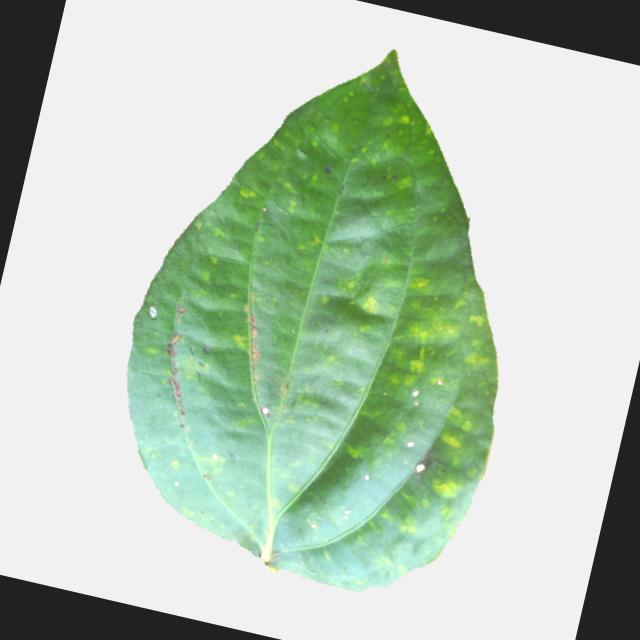yellow-mottle-virus: (49, 0, 611, 615)
